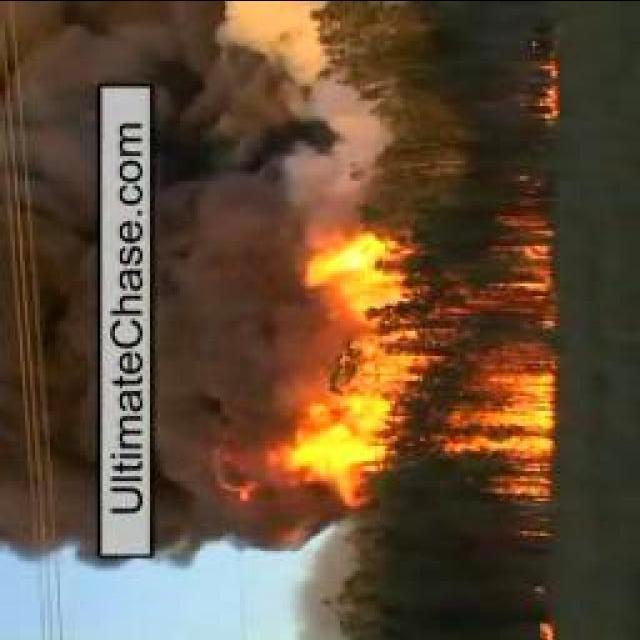Fire: (266, 216, 552, 482), (534, 56, 558, 130)
